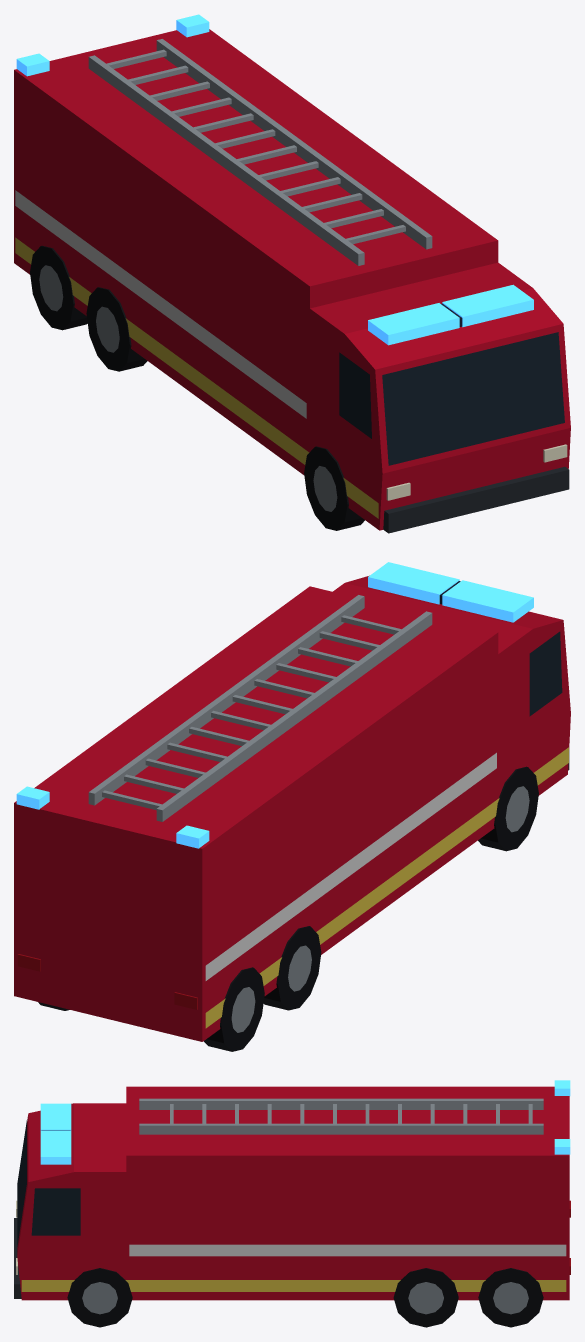
The model's file is fire.glb.
3 views of the same model, one above another, from view 1: azimuth 30°, elevation 25°; view 2: azimuth 150°, elevation 25°; view 3: azimuth 270°, elevation 25° (orthographic). The views are drawn at different scales.
Visible parts, largest first — view 1: fire, lightRight, lightLeft; view 2: fire, lightRight, lightLeft; view 3: fire, lightLeft, lightRight.
Part boxes in pixels (left/top/right/bottom): fire: left=14, top=29, right=570, bottom=533; lightRight: left=16, top=53, right=459, bottom=345; lightLeft: left=176, top=14, right=533, bottom=327; fire: left=14, top=575, right=570, bottom=1051; lightRight: left=176, top=580, right=533, bottom=848; lightLeft: left=16, top=562, right=459, bottom=809; fire: left=14, top=1086, right=570, bottom=1327; lightLeft: left=40, top=1131, right=570, bottom=1164; lightRight: left=40, top=1080, right=570, bottom=1130.
Bounding box in the file's own units: 2.55 × 3.05 × 8.54.
